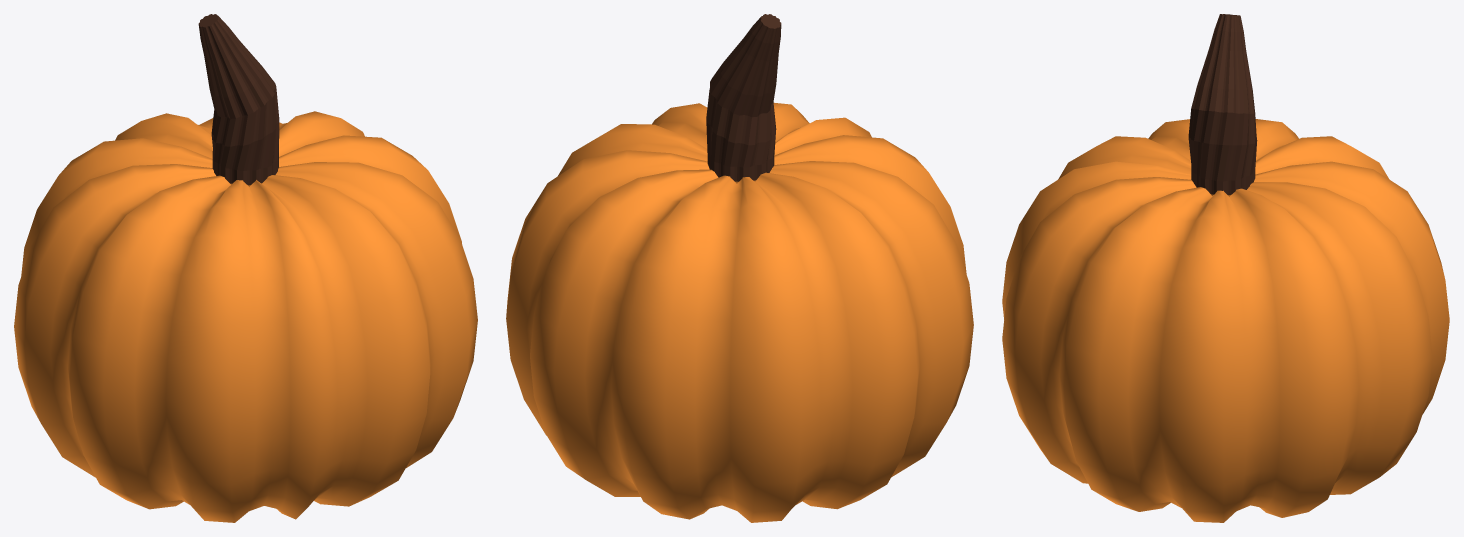
Rendered from aboboraAttt.fbx.
3 renders of one model, left to right at view 1: azimuth 30°, elevation 25°; view 2: azimuth 150°, elevation 25°; view 3: azimuth 270°, elevation 25°, orthographic. The views are drawn at different scales.
Visible parts, largest first — view 1: Sphere; view 2: Sphere; view 3: Sphere.
Part boxes in pixels (<box>): Sphere: <box>14,14,477,522</box>; Sphere: <box>506,14,973,522</box>; Sphere: <box>1002,14,1449,522</box>.
Bounding box in the file's own units: 198 × 216 × 198.
